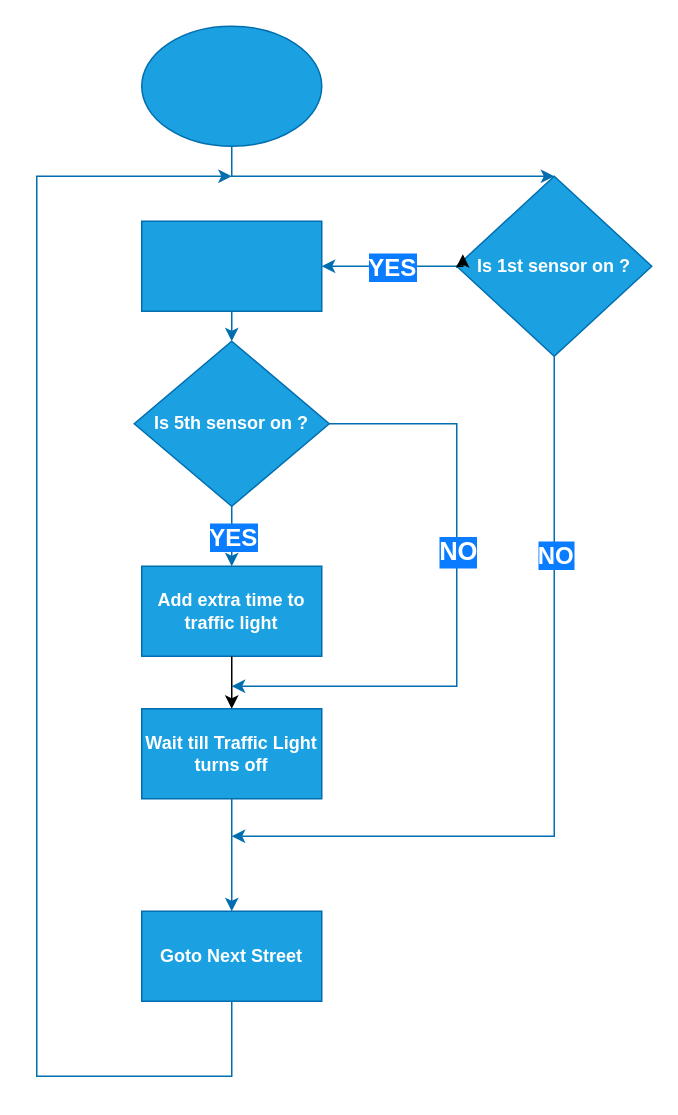
This 678x1115 diagram has some shape labels left out. Each missing label, with the centre of its shape:
Start at Street 1: the point at 231,85
Turn on Traffic Light: the point at 231,265
